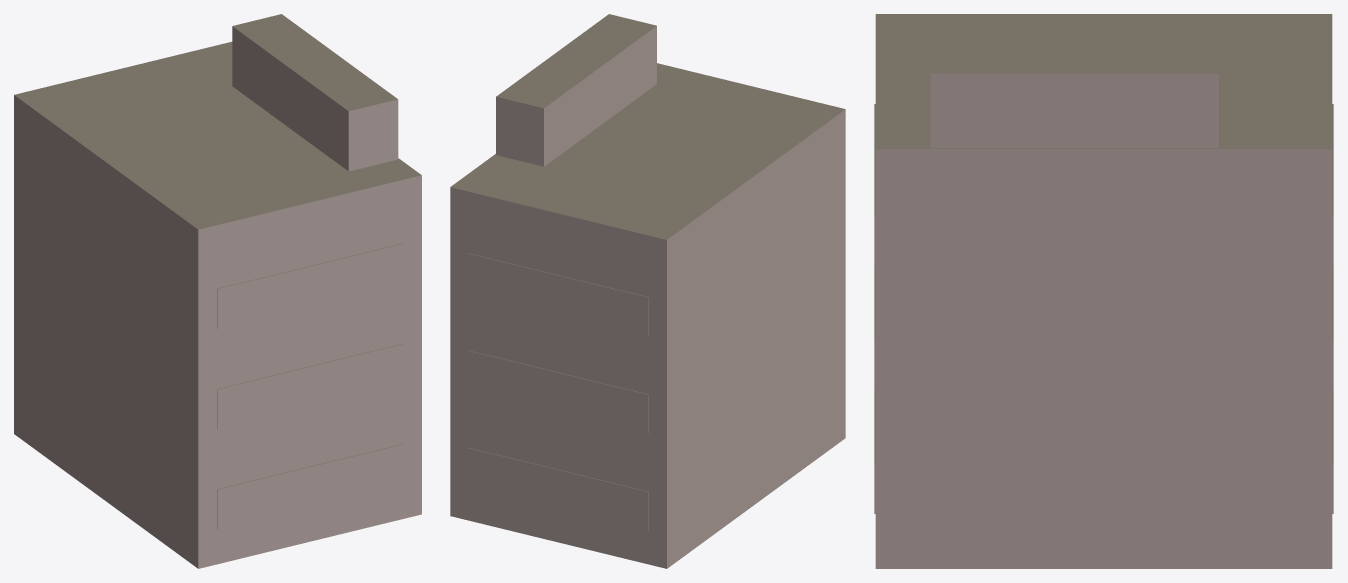
Rendered from bay-townhouse-pink.far-facades-v3.lod2.glb.
3 renders of one model, left to right at view 1: azimuth 30°, elevation 25°; view 2: azimuth 150°, elevation 25°; view 3: azimuth 270°, elevation 25°, orthographic. The views are drawn at different scales.
Visible parts, largest first — view 1: bay-townhouse-pink; view 2: bay-townhouse-pink; view 3: bay-townhouse-pink.
Boxes of the visible parts, bbox=[...] form: bay-townhouse-pink: bbox=[14, 14, 421, 568]; bay-townhouse-pink: bbox=[450, 14, 845, 568]; bay-townhouse-pink: bbox=[874, 14, 1333, 568].
Size of the model in its own units: 7 by 11.95 by 10.06.
